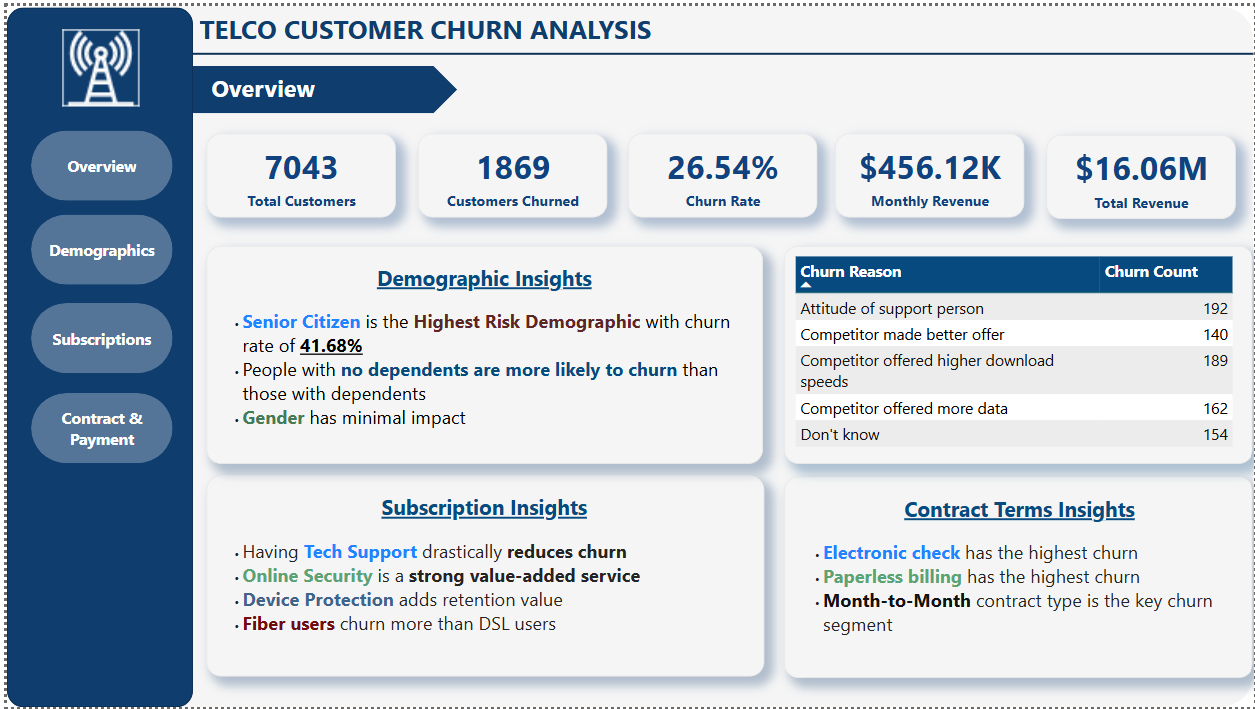

The dashboard page shown, as its layout file describes it:
{"tool":"powerbi","page":{"name":"Overview","canvas":[1280,720],"ordinal":0},"visuals":[{"type":"shape","title":"Background","box":[0,0,1279.5,719.2],"z":0},{"type":"shape","title":"Nav Pane","box":[0,1.5,190.8,717.7],"z":1000},{"type":"shape","title":"Line","box":[190.8,34.8,1088.7,27.3],"z":2000},{"type":"textbox","box":[192.3,0,490.6,45.4],"z":3000},{"type":"actionButton","title":"Overview","box":[24.2,128.2,145.4,72],"z":4000},{"type":"actionButton","title":"Demographics button","box":[24.2,214.5,145.4,72],"z":5000},{"type":"actionButton","title":"Subscriptions button","box":[24.2,305.4,145.4,72],"z":6000},{"type":"actionButton","title":"Contract terms button","box":[24.2,396.7,145.4,72],"z":7000},{"type":"card","title":"Total Customers ","fields":{"Values":["CountNonNull(Telco_Churn.CustomerID)"]},"box":[204.4,130.2,193.8,86.3],"z":8000},{"type":"card","title":"Customers Churned","fields":{"Values":["Sum(Telco_Churn.Churn Value)"]},"box":[421.4,130.2,193.8,86.3],"z":9000},{"type":"card","title":"Churn Rate","fields":{"Values":["Telco_Churn.Churn Rate"]},"box":[636.5,130.2,193.8,86.3],"z":10000},{"type":"card","title":"Monthly Revenue","fields":{"Values":["Sum(Telco_Churn.Monthly Charges)"]},"box":[850,130.2,193.8,86.3],"z":11000},{"type":"card","title":"Total Revenue","fields":{"Values":["Sum(Telco_Churn.Total Charges)"]},"box":[1066.5,131.7,193.8,86.3],"z":12000},{"type":"shape","title":"Overview shape","box":[190.8,62.1,271,48.5],"z":13000},{"type":"textbox","box":[204.4,62.1,154.4,48.5],"z":14000},{"type":"tableEx","title":"Churn Reason Table","fields":{"Values":["Telco_Churn.Churn Reason","CountNonNull(Telco_Churn.Churn Value)"]},"box":[796.9,246.2,466.2,223.1],"z":15000},{"type":"image","box":[39.4,18.2,112.1,89.3],"z":16000},{"type":"shape","box":[204.6,246.2,570.8,223.1],"z":17000},{"type":"textbox","box":[218,258,542,182],"z":18000},{"type":"shape","box":[204,482,572,206],"z":19000},{"type":"textbox","box":[218,494,542,182],"z":20000},{"type":"shape","box":[796.9,483.1,466.2,206.2],"z":20001},{"type":"textbox","box":[813.8,495.4,446.2,183.1],"z":20002}]}

Visuals, with their boxes in screenshot pixels (x1, y1, x2, y2), scaled from the page's 1280x720 canvas onto the 1255x709 screenshot:
"Background" shape: [0, 0, 1254, 708]
"Nav Pane" shape: [0, 1, 187, 708]
"Line" shape: [187, 34, 1254, 61]
textbox: [189, 0, 670, 45]
"Overview" actionButton: [24, 126, 166, 197]
"Demographics button" actionButton: [24, 211, 166, 282]
"Subscriptions button" actionButton: [24, 301, 166, 372]
"Contract terms button" actionButton: [24, 391, 166, 462]
"Total Customers " card: [200, 128, 390, 213]
"Customers Churned" card: [413, 128, 603, 213]
"Churn Rate" card: [624, 128, 814, 213]
"Monthly Revenue" card: [833, 128, 1023, 213]
"Total Revenue" card: [1046, 130, 1236, 215]
"Overview shape" shape: [187, 61, 453, 109]
textbox: [200, 61, 352, 109]
"Churn Reason Table" tableEx: [781, 242, 1238, 462]
image: [39, 18, 149, 106]
shape: [201, 242, 760, 462]
textbox: [214, 254, 745, 433]
shape: [200, 475, 761, 677]
textbox: [214, 486, 745, 666]
shape: [781, 476, 1238, 679]
textbox: [798, 488, 1235, 668]
